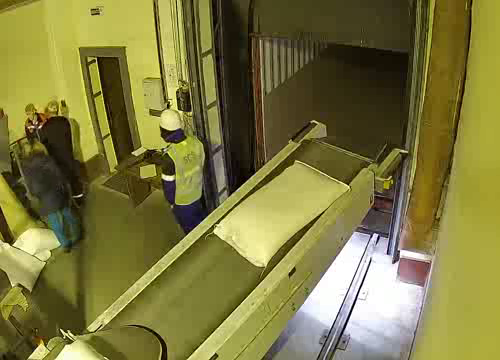bag: (209, 153, 353, 269), (49, 330, 109, 360)
